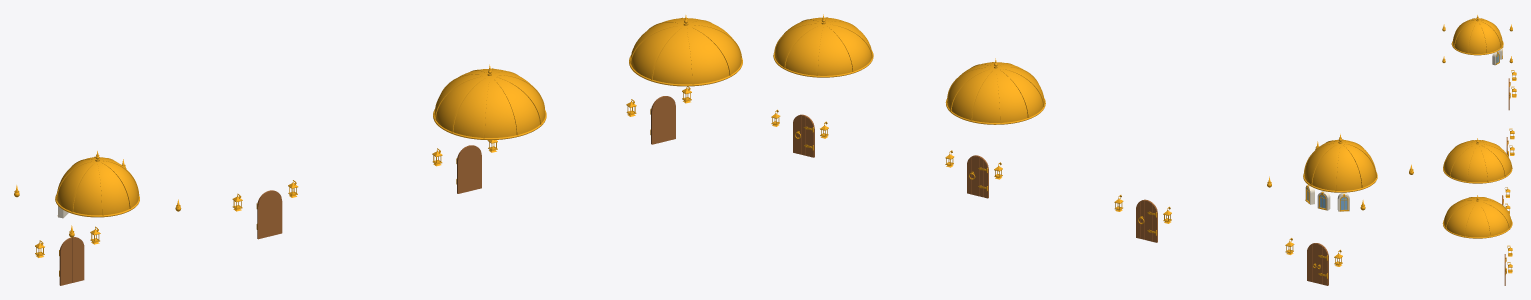
The model's file is halo_houses_batch1_ornaments.glb.
The picture shows the model from 3 angles, left to right: view 1: azimuth 30°, elevation 25°; view 2: azimuth 150°, elevation 25°; view 3: azimuth 270°, elevation 25°; orthographic projection. The views are drawn at different scales.
Parts seen in each view (by area): view 1: Orn_HaloDomeHouse_09_Dome, Orn_HaloDomeHouse_03_Dome, Orn_HaloDomeHouse_02_Dome, Orn_HaloDomeHouse_05_Leaf, Orn_HaloDomeHouse_03_Leaf, Orn_HaloDomeHouse_09_Leaf, Orn_HaloDomeHouse_02_Leaf0, Orn_HaloDomeHouse_02_Leaf1; view 2: Orn_HaloDomeHouse_09_Dome, Orn_HaloDomeHouse_03_Dome, Orn_HaloDomeHouse_02_Dome, Orn_HaloDomeHouse_09_Leaf, Orn_HaloDomeHouse_05_Leaf, Orn_HaloDomeHouse_03_Leaf, Orn_HaloDomeHouse_02_Leaf0, Orn_HaloDomeHouse_02_Leaf1; view 3: Orn_HaloDomeHouse_09_Dome, Orn_HaloDomeHouse_03_Dome, Orn_HaloDomeHouse_02_Dome, Orn_HaloDomeHouse_02_DrumWin0_Surround, Orn_HaloDomeHouse_03_Leaf, Orn_HaloDomeHouse_02_Leaf1.
Boxes of the visible parts, x1=… form: Orn_HaloDomeHouse_09_Dome: x1=433, y1=64, x2=546, y2=139; Orn_HaloDomeHouse_03_Dome: x1=629, y1=15, x2=742, y2=86; Orn_HaloDomeHouse_02_Dome: x1=55, y1=151, x2=139, y2=217; Orn_HaloDomeHouse_05_Leaf: x1=257, y1=190, x2=282, y2=239; Orn_HaloDomeHouse_03_Leaf: x1=651, y1=96, x2=675, y2=144; Orn_HaloDomeHouse_09_Leaf: x1=457, y1=145, x2=481, y2=193; Orn_HaloDomeHouse_02_Leaf0: x1=59, y1=237, x2=72, y2=285; Orn_HaloDomeHouse_02_Leaf1: x1=72, y1=237, x2=84, y2=282; Orn_HaloDomeHouse_09_Dome: x1=945, y1=58, x2=1045, y2=124; Orn_HaloDomeHouse_03_Dome: x1=773, y1=14, x2=873, y2=77; Orn_HaloDomeHouse_02_Dome: x1=1303, y1=134, x2=1377, y2=192; Orn_HaloDomeHouse_09_Leaf: x1=967, y1=155, x2=988, y2=198; Orn_HaloDomeHouse_05_Leaf: x1=1136, y1=199, x2=1157, y2=242; Orn_HaloDomeHouse_03_Leaf: x1=793, y1=114, x2=814, y2=157; Orn_HaloDomeHouse_02_Leaf0: x1=1317, y1=243, x2=1328, y2=285; Orn_HaloDomeHouse_02_Leaf1: x1=1307, y1=243, x2=1317, y2=283; Orn_HaloDomeHouse_09_Dome: x1=1443, y1=138, x2=1512, y2=183; Orn_HaloDomeHouse_03_Dome: x1=1442, y1=195, x2=1512, y2=238; Orn_HaloDomeHouse_02_Dome: x1=1451, y1=15, x2=1503, y2=55; Orn_HaloDomeHouse_02_DrumWin0_Surround: x1=1492, y1=51, x2=1499, y2=65; Orn_HaloDomeHouse_03_Leaf: x1=1504, y1=254, x2=1505, y2=285; Orn_HaloDomeHouse_02_Leaf1: x1=1508, y1=79, x2=1509, y2=110.
Bounding box in the file's own units: 124 × 25.85 × 18.8.
